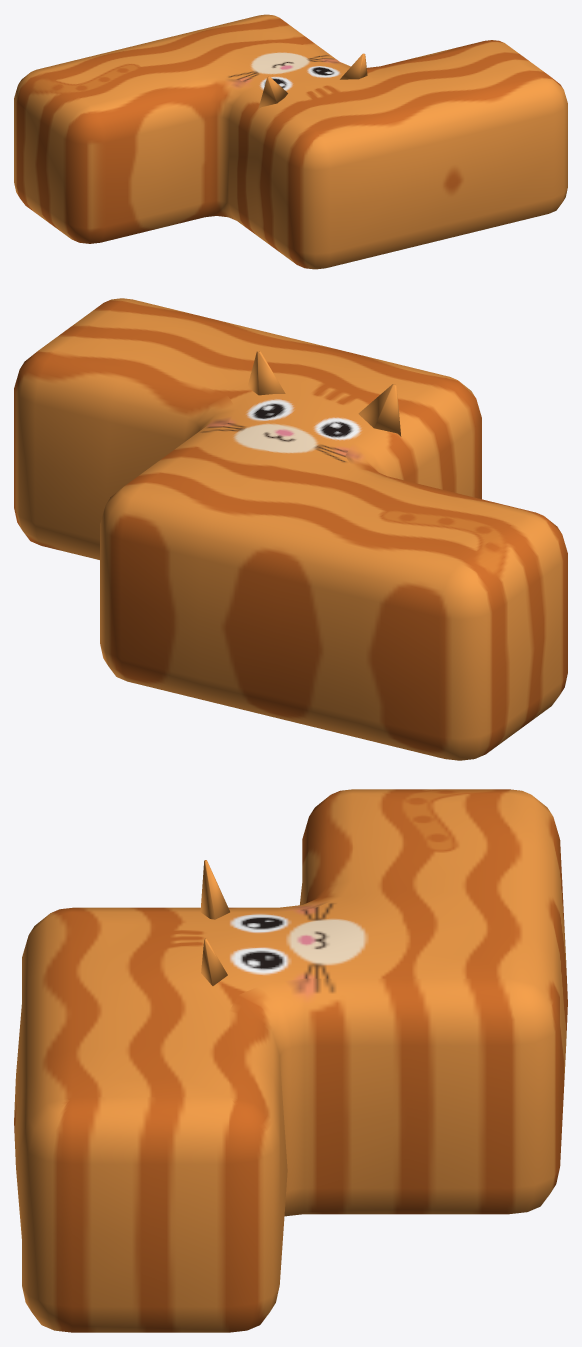
File: Cat_SMirror.fbx
The picture shows the model from 3 angles, top to bottom: view 1: azimuth 30°, elevation 25°; view 2: azimuth 150°, elevation 25°; view 3: azimuth 270°, elevation 25°; orthographic projection. The views are drawn at different scales.
Visible parts, largest first — view 1: Cat_SMirror; view 2: Cat_SMirror; view 3: Cat_SMirror.
Part boxes in pixels (x1,y1,x2,y2): Cat_SMirror: (14, 14, 567, 269); Cat_SMirror: (14, 298, 567, 760); Cat_SMirror: (14, 789, 567, 1332).
Size of the model in its own units: 2.98 by 1.05 by 1.98.
1 material, 1 textured.
